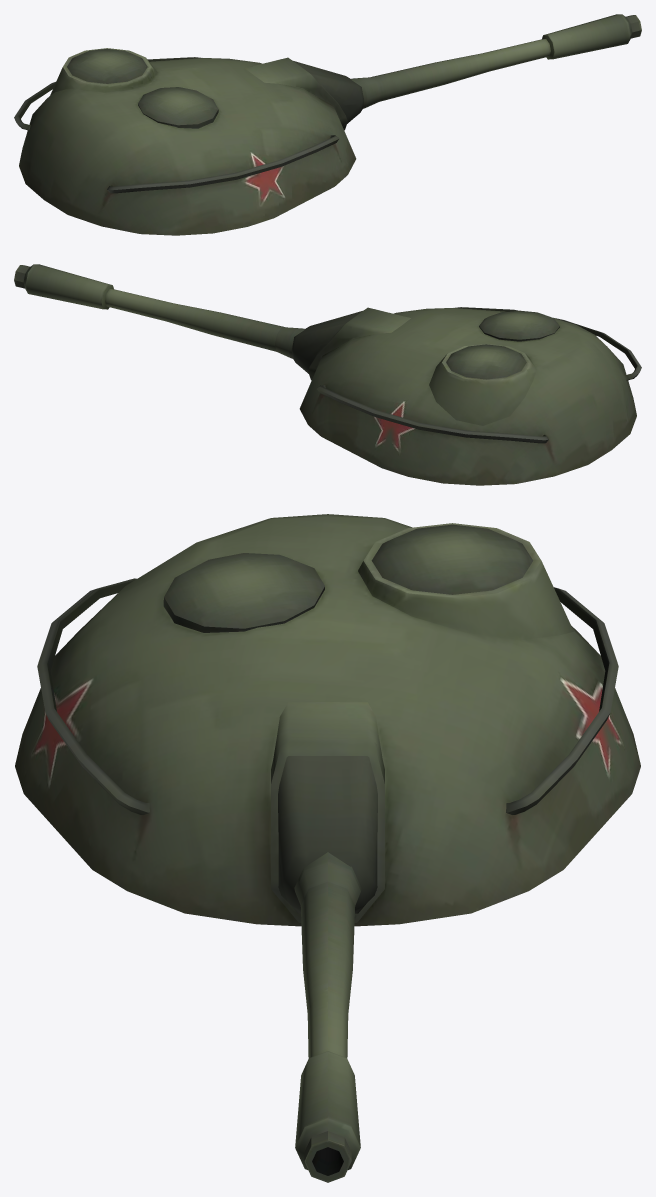
3 views of the same model, one above another, from view 1: azimuth 30°, elevation 25°; view 2: azimuth 150°, elevation 25°; view 3: azimuth 270°, elevation 25° (orthographic). The views are drawn at different scales.
Visible parts, largest first — view 1: body0_model0_lod0_mesh0; view 2: body0_model0_lod0_mesh0; view 3: body0_model0_lod0_mesh0.
Part boxes in pixels (<box>): body0_model0_lod0_mesh0: <box>14,14,641,235</box>; body0_model0_lod0_mesh0: <box>14,264,641,485</box>; body0_model0_lod0_mesh0: <box>15,514,640,1182</box>.
Bounding box in the file's own units: 306 × 46.76 × 140.
1 material, 1 textured.
